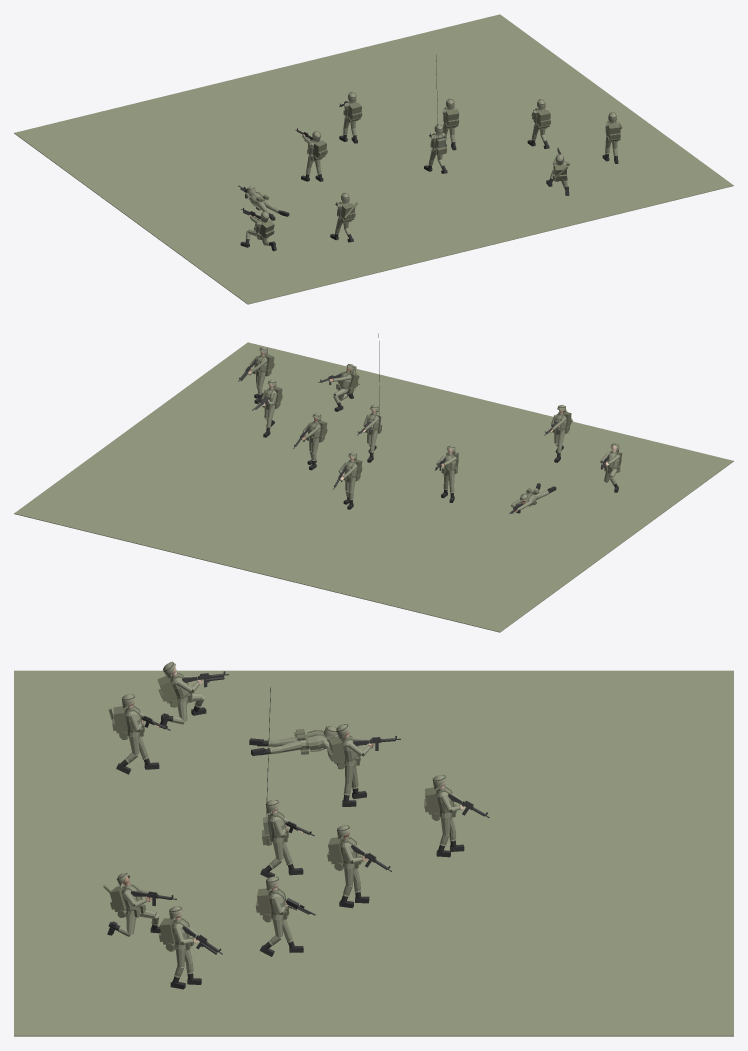
File: us_rifle_squad_1989_lod0.glb
3 renders of one model, top to bottom at view 1: azimuth 30°, elevation 25°; view 2: azimuth 150°, elevation 25°; view 3: azimuth 270°, elevation 25°, orthographic. The views are drawn at different scales.
Parts seen in each view (by area): view 1: Ground; view 2: Ground; view 3: Ground.
Boxes of the visible parts, box(x1,y1,x2,y2) form: Ground: box(14, 14, 733, 304); Ground: box(14, 342, 733, 632); Ground: box(14, 670, 733, 1036).
Bounding box in the file's own units: 18 × 4.35 × 15.
